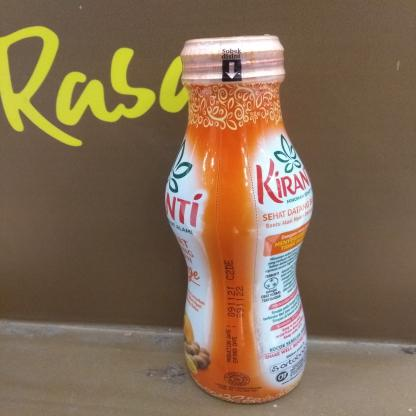glass: (159, 31, 320, 403)
